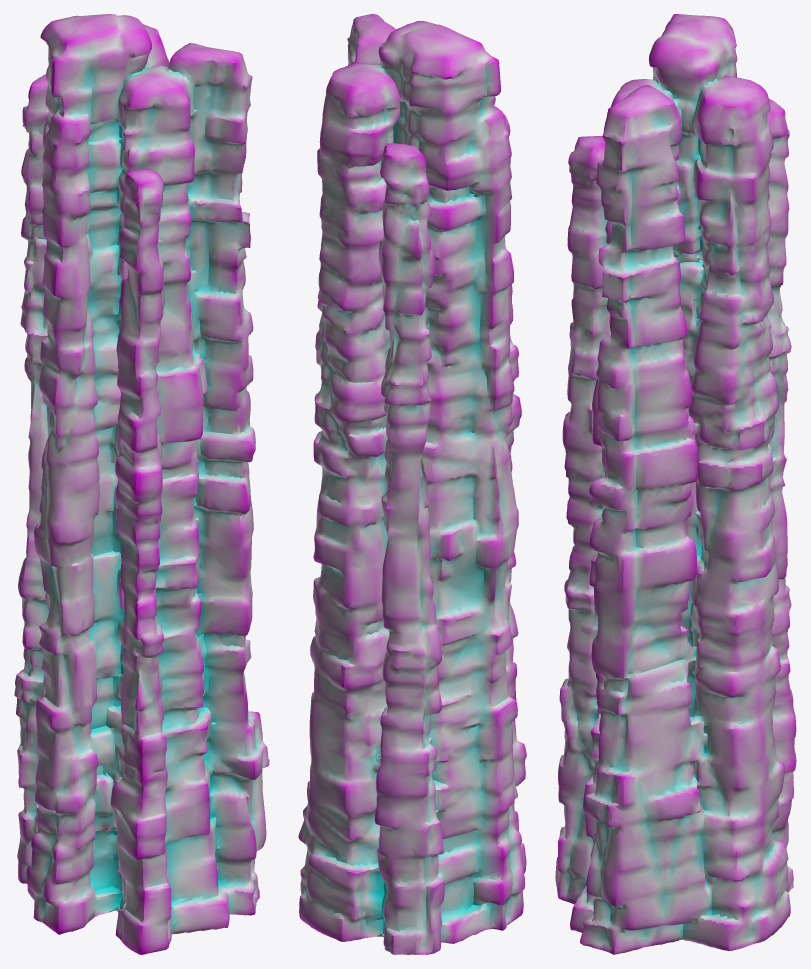
Rendered from Macico_2.fbx.
3 views of the same model, side by side, from view 1: azimuth 30°, elevation 25°; view 2: azimuth 150°, elevation 25°; view 3: azimuth 270°, elevation 25° (orthographic).
Parts seen in each view (by area): view 1: Macico_2; view 2: Macico_2; view 3: Macico_2.
Part boxes in pixels (x1,y1,x2,y2): Macico_2: (14,14,269,954); Macico_2: (298,14,526,954); Macico_2: (555,14,796,954).
Bounding box in the file's own units: 92.31 × 385 × 96.29.
